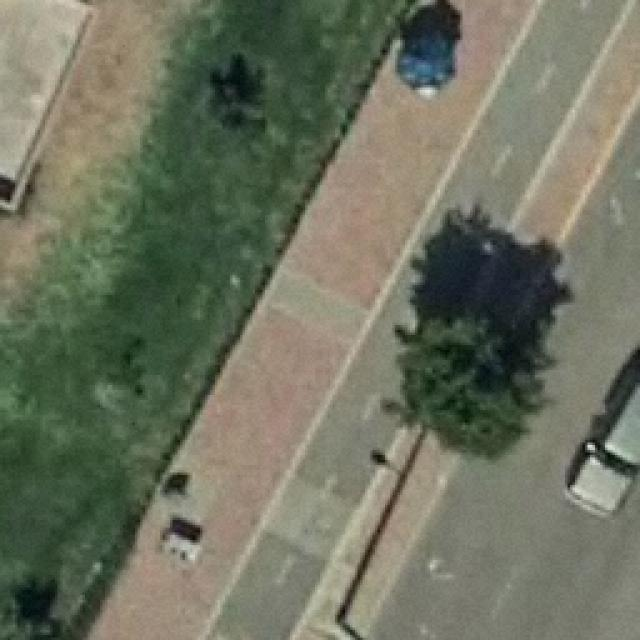vendedor_ambulante: (392, 25, 460, 95)
